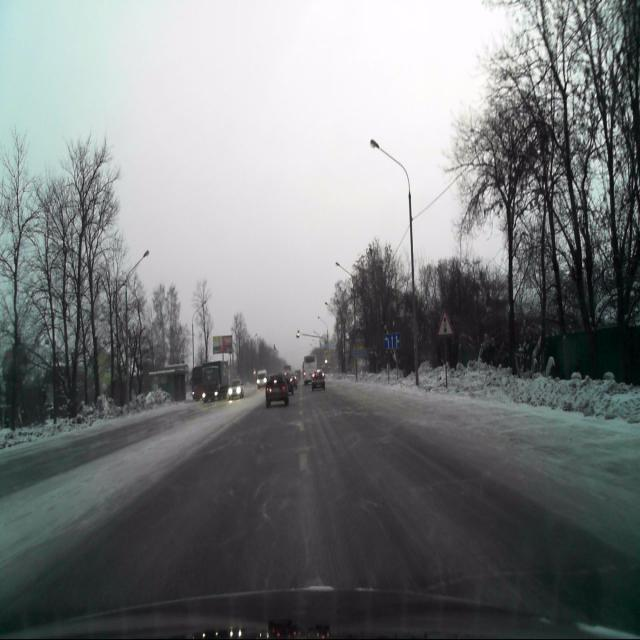road sign: (436, 309, 454, 339), (384, 332, 402, 350)
